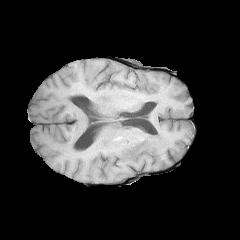glioma: (94, 127, 172, 180)
